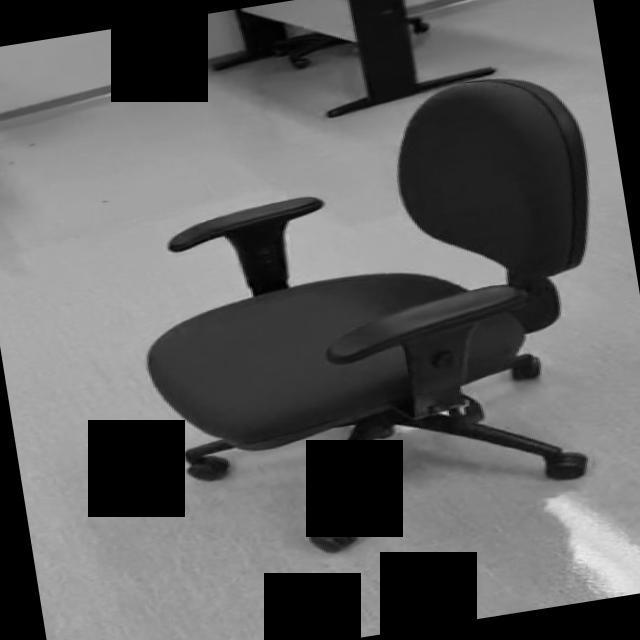chair: (111, 64, 640, 574)
